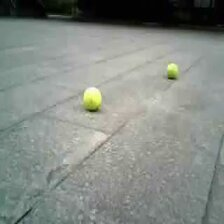tennis: (82, 87, 101, 109), (167, 63, 178, 78)
